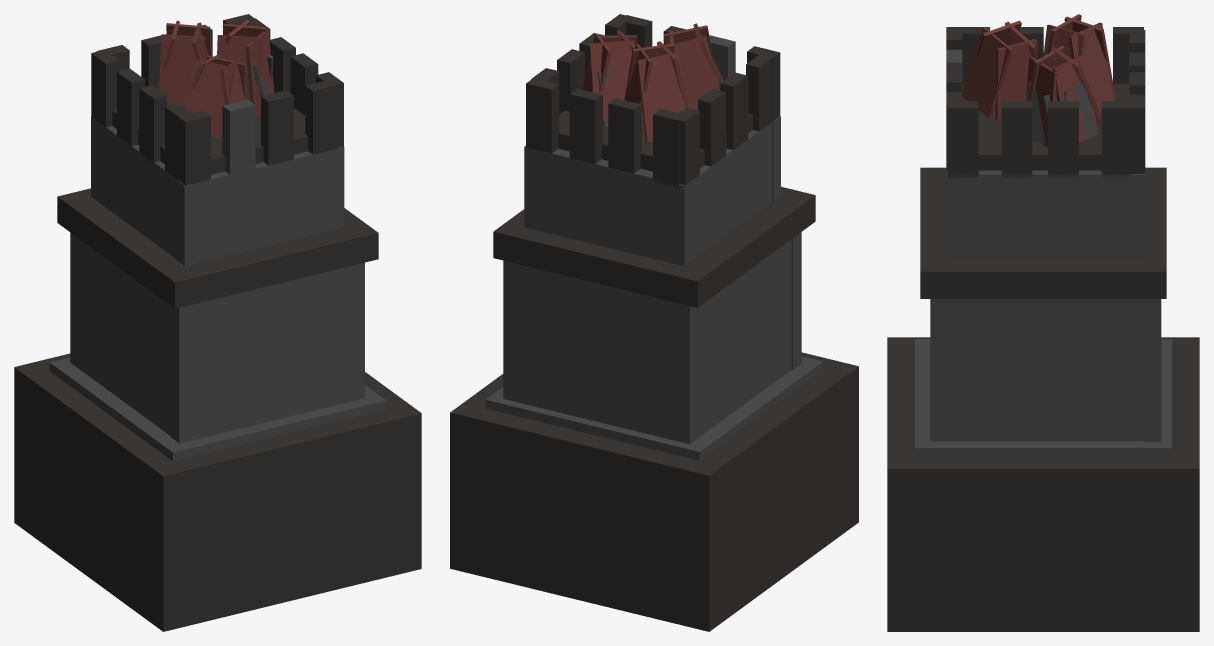
The model's file is 火焰塔_3.fbx.
3 views of the same model, side by side, from view 1: azimuth 30°, elevation 25°; view 2: azimuth 150°, elevation 25°; view 3: azimuth 270°, elevation 25° (orthographic). The views are drawn at different scales.
Parts seen in each view (by area): view 1: 立方体, 立方体.011, 立方体.005, 立方体.001, 立方体.009, 立方体.017, 立方体.004, 立方体.007, 立方体.002, 立方体.006, 立方体.003, 立方体.034 (+13 smaller); view 2: 立方体, 立方体.008, 立方体.005, 立方体.009, 立方体.025, 立方体.017, 立方体.004, 立方体.023, 立方体.022, 立方体.033, 立方体.026, 立方体.024 (+15 smaller); view 3: 立方体, 立方体.010, 立方体.016, 立方体.005, 立方体.004, 立方体.027, 立方体.008, 立方体.012, 立方体.015, 立方体.013, 立方体.014, 立方体.040 (+15 smaller).
Part boxes in pixels (box(x1,y1,x2,y2)): 立方体: box(14, 353, 421, 631); 立方体.011: box(170, 262, 364, 443); 立方体.005: box(57, 188, 378, 308); 立方体.001: box(177, 146, 344, 265); 立方体.009: box(70, 232, 170, 435); 立方体.017: box(91, 116, 177, 259); 立方体.004: box(49, 357, 386, 461); 立方体.007: box(222, 99, 255, 174); 立方体.002: box(305, 79, 338, 154); 立方体.006: box(178, 110, 210, 185); 立方体.003: box(261, 90, 293, 165); 立方体.034: box(159, 34, 205, 107); 立方体: box(450, 352, 858, 631); 立方体.008: box(503, 260, 689, 444); 立方体.005: box(493, 186, 815, 307); 立方体.009: box(689, 239, 791, 443); 立方体.025: box(524, 146, 684, 266); 立方体.017: box(679, 122, 772, 265); 立方体.004: box(485, 356, 823, 460); 立方体.023: box(608, 98, 641, 173); 立方体.022: box(569, 88, 602, 163); 立方体.033: box(636, 52, 685, 142); 立方体.026: box(526, 78, 559, 153); 立方体.024: box(653, 109, 685, 187); 立方体: box(887, 337, 1199, 631); 立方体.010: box(930, 299, 1142, 441); 立方体.016: box(946, 170, 1139, 258); 立方体.005: box(920, 167, 1166, 298); 立方体.004: box(914, 339, 1172, 457); 立方体.027: box(962, 84, 1129, 170); 立方体.008: box(1143, 299, 1161, 441); 立方体.012: box(1001, 101, 1032, 177); 立方体.015: box(1101, 101, 1132, 177); 立方体.013: box(947, 101, 978, 177); 立方体.014: box(1048, 101, 1078, 177); 立方体.040: box(962, 27, 1012, 118).
Bounding box in the file's own units: 246 × 246 × 462.
